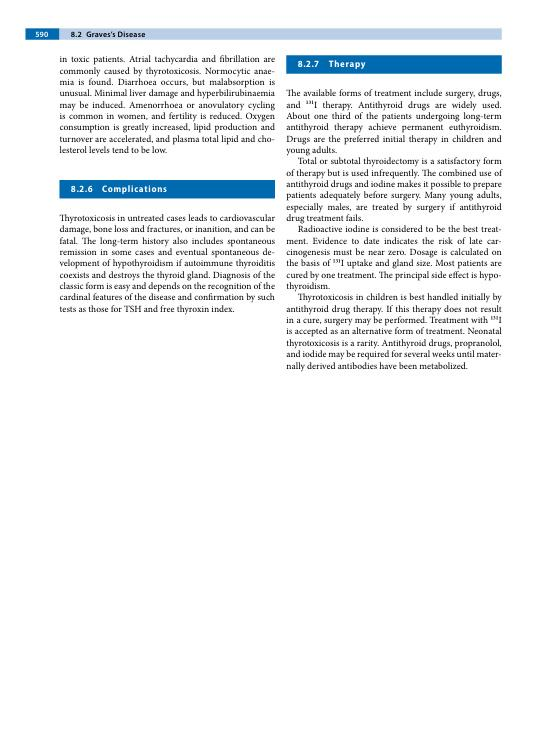header: (85, 30, 146, 38)
section-heading: (101, 184, 168, 195), (328, 59, 366, 70)
text: (285, 87, 503, 373), (57, 212, 276, 317), (58, 54, 276, 155)
